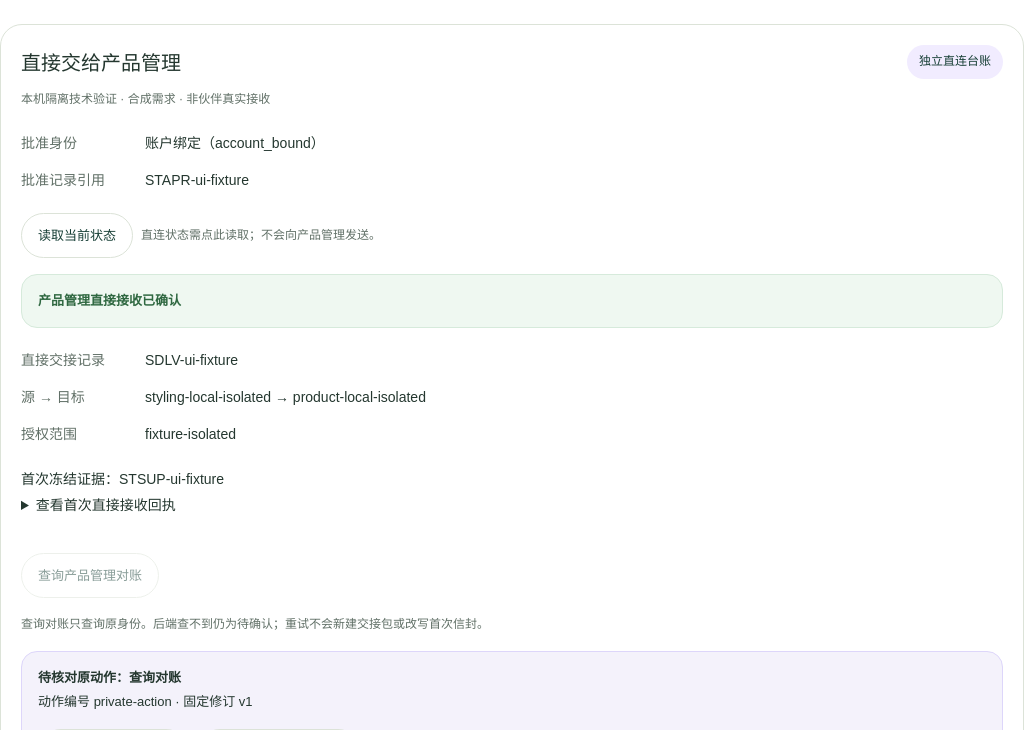
Test: direct management panel › 401 clears previously received private data and pending controls without deleting the original stored action
This screenshot has width=1024, height=730.
Expected: the text "产品管理直接接收已确认" is shown, x1=38 y1=293 x2=181 y2=308
Expected: the text "动作编号 private-action · 固定修订 v1" is shown, x1=38 y1=694 x2=253 y2=709
Click the button "读取当前状态" at {"x": 77, "y": 236}, box x1=21 y1=213 x2=133 y2=258
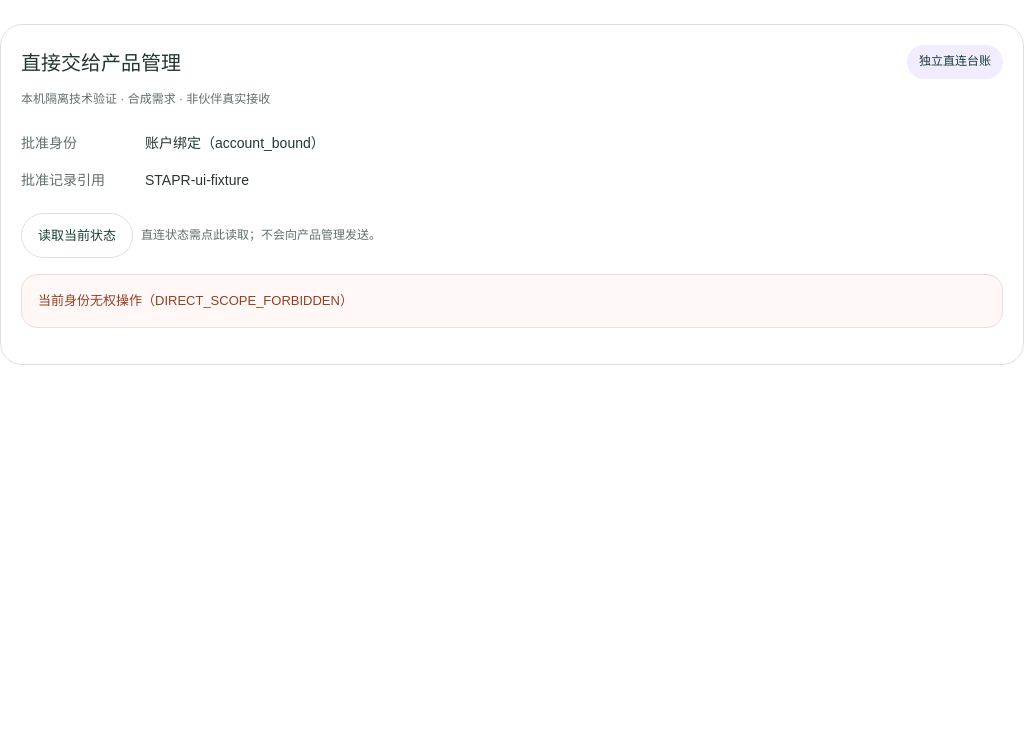
Now the message "当前身份无权操作（DIRECT_SCOPE_FORBIDDEN）" is shown, box x1=21 y1=274 x2=1003 y2=328
Now the text "产品管理直接接收已确认" is gone
Now the text "private-action" is gone
